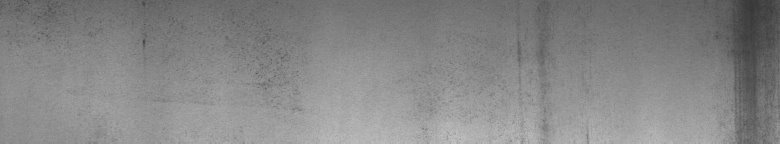ib: (245, 52, 302, 114)
